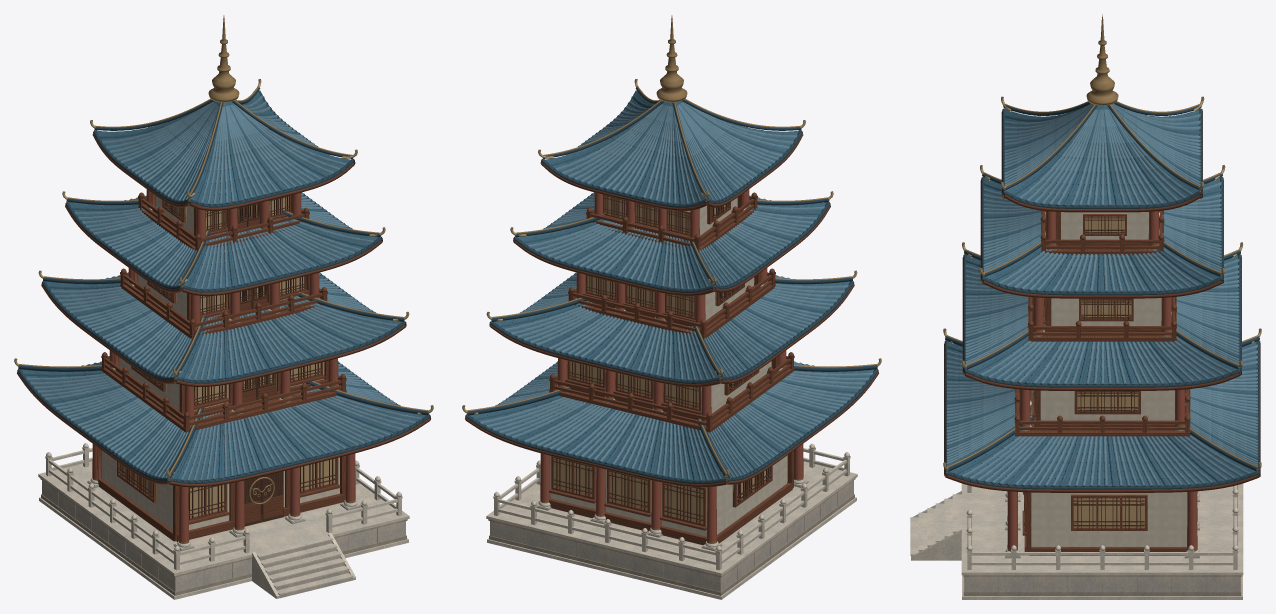
3 renders of one model, left to right at view 1: azimuth 30°, elevation 25°; view 2: azimuth 150°, elevation 25°; view 3: azimuth 270°, elevation 25°, orthographic. The views are drawn at different scales.
Parts seen in each view (by area): view 1: WhiteStonePlatform_stonePale, PyramidalRoof_1_tileRound, PyramidalRoof_2_tileRound, PyramidalRoof_4_tileRound, PyramidalRoof_1_glaze, PyramidalRoof_3_tileRound, PyramidalRoof_2_glaze, PyramidalRoof_4_glaze, PyramidalRoof_3_glaze, WhiteStonePlatform_stone, Gallery_1_heartwood, Balcony_2_heartwood (+30 smaller); view 2: PyramidalRoof_1_tileRound, WhiteStonePlatform_stonePale, PyramidalRoof_2_tileRound, PyramidalRoof_4_tileRound, PyramidalRoof_1_glaze, PyramidalRoof_3_tileRound, PyramidalRoof_2_glaze, PyramidalRoof_4_glaze, PyramidalRoof_3_glaze, WhiteStonePlatform_stone, Gallery_1_heartwood, Balcony_2_heartwood (+30 smaller); view 3: WhiteStonePlatform_stonePale, PyramidalRoof_1_tileRound, PyramidalRoof_2_tileRound, PyramidalRoof_4_tileRound, PyramidalRoof_1_glaze, PyramidalRoof_3_tileRound, PyramidalRoof_2_glaze, PyramidalRoof_4_glaze, PyramidalRoof_3_glaze, Gallery_1_lime, WhiteStonePlatform_stone, PyramidalRoof_1_shadowTile (+31 smaller).
Part boxes in pixels (x1=…): WhiteStonePlatform_stonePale: x1=38, y1=443, x2=409, y2=599; PyramidalRoof_1_tileRound: x1=26, y1=361, x2=423, y2=480; PyramidalRoof_2_tileRound: x1=50, y1=272, x2=398, y2=380; PyramidalRoof_4_tileRound: x1=101, y1=95, x2=346, y2=203; PyramidalRoof_1_glaze: x1=21, y1=362, x2=426, y2=480; PyramidalRoof_3_tileRound: x1=72, y1=193, x2=374, y2=288; PyramidalRoof_2_glaze: x1=46, y1=275, x2=401, y2=380; PyramidalRoof_4_glaze: x1=97, y1=92, x2=350, y2=204; PyramidalRoof_3_glaze: x1=69, y1=195, x2=378, y2=289; WhiteStonePlatform_stone: x1=42, y1=480, x2=405, y2=598; Gallery_1_heartwood: x1=97, y1=447, x2=345, y2=541; Balcony_2_heartwood: x1=101, y1=352, x2=346, y2=432; PyramidalRoof_1_tileRound: x1=478, y1=361, x2=873, y2=480; WhiteStonePlatform_stonePale: x1=486, y1=443, x2=857, y2=599; PyramidalRoof_2_tileRound: x1=496, y1=272, x2=848, y2=380; PyramidalRoof_4_tileRound: x1=554, y1=101, x2=797, y2=203; PyramidalRoof_1_glaze: x1=469, y1=366, x2=874, y2=480; PyramidalRoof_3_tileRound: x1=518, y1=193, x2=825, y2=289; PyramidalRoof_2_glaze: x1=494, y1=275, x2=849, y2=380; PyramidalRoof_4_glaze: x1=545, y1=92, x2=798, y2=204; PyramidalRoof_3_glaze: x1=517, y1=195, x2=826, y2=289; WhiteStonePlatform_stone: x1=490, y1=480, x2=853, y2=591; Gallery_1_heartwood: x1=549, y1=450, x2=793, y2=545; Balcony_2_heartwood: x1=549, y1=352, x2=794, y2=432; WhiteStonePlatform_stonePale: x1=910, y1=483, x2=1243, y2=599; PyramidalRoof_1_tileRound: x1=945, y1=344, x2=1257, y2=485; PyramidalRoof_2_tileRound: x1=965, y1=259, x2=1239, y2=383; PyramidalRoof_4_tileRound: x1=1004, y1=104, x2=1200, y2=205; PyramidalRoof_1_glaze: x1=947, y1=341, x2=1257, y2=485; PyramidalRoof_3_tileRound: x1=982, y1=182, x2=1221, y2=291; PyramidalRoof_2_glaze: x1=965, y1=255, x2=1239, y2=383; PyramidalRoof_4_glaze: x1=1004, y1=104, x2=1200, y2=205; PyramidalRoof_3_glaze: x1=983, y1=178, x2=1221, y2=291; Gallery_1_lime: x1=1031, y1=492, x2=1187, y2=546; WhiteStonePlatform_stone: x1=911, y1=532, x2=1240, y2=592; PyramidalRoof_1_shadowTile: x1=944, y1=336, x2=1260, y2=489.
Size of the model in its own units: 12.03 by 21.85 by 13.22.
14 materials, 14 textured.
